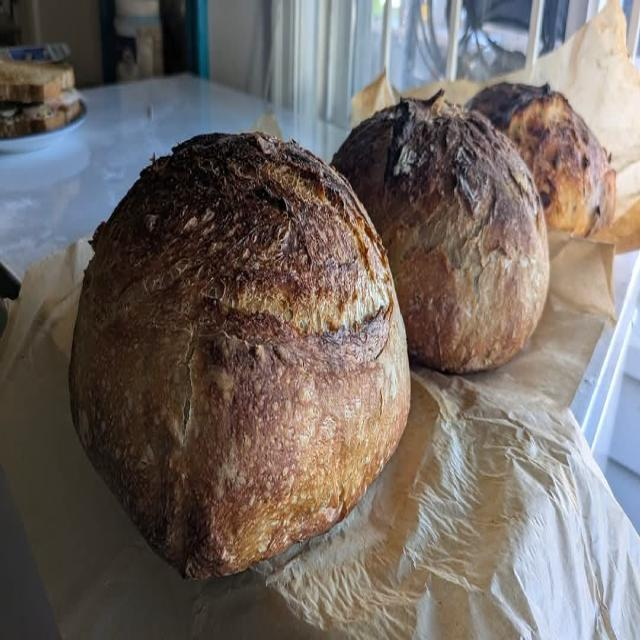Maltese-Bread: (69, 132, 410, 578), (331, 89, 549, 373), (466, 82, 616, 236)
